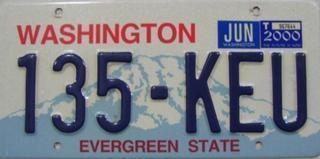placa de veiculo: (11, 4, 315, 154)
